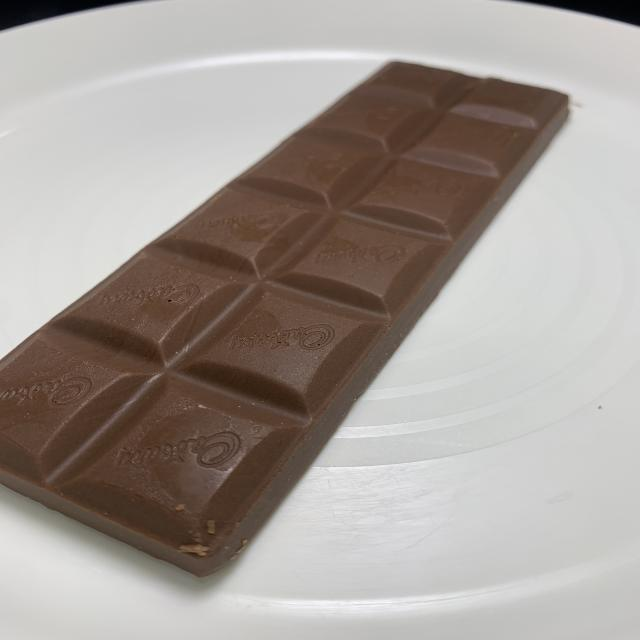chocolate: (0, 56, 574, 574)
